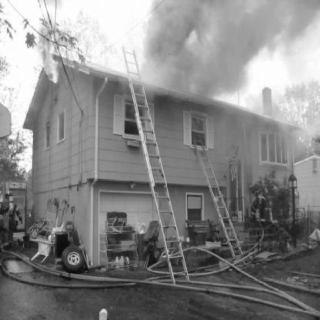Fire: (31, 15, 68, 88)
Smoke: (144, 1, 308, 85)
